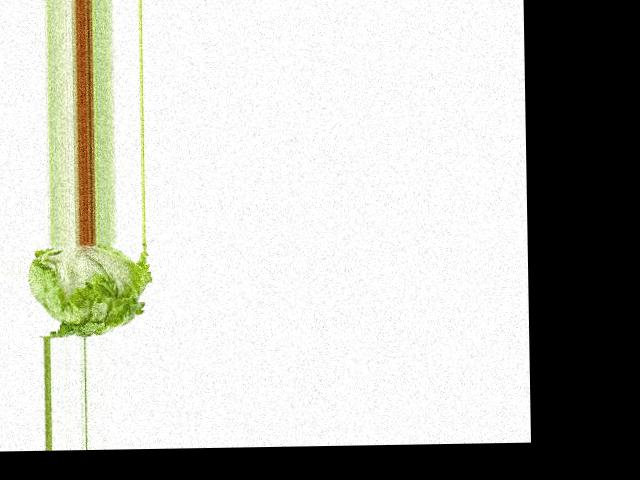lettuce: (24, 242, 157, 337)
